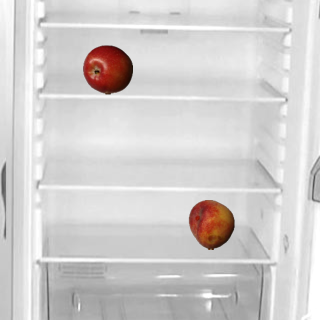Apple Braeburn: (82, 44, 132, 94)
Peach: (186, 199, 236, 249)
